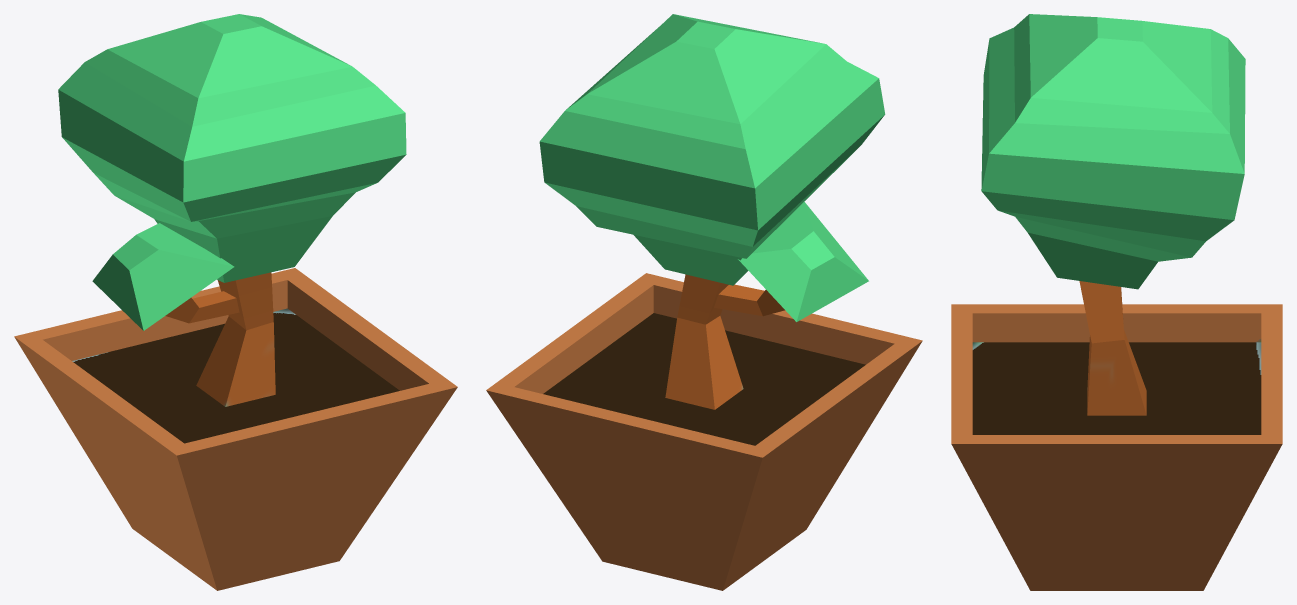
Rendered from pot1.glb.
3 renders of one model, left to right at view 1: azimuth 30°, elevation 25°; view 2: azimuth 150°, elevation 25°; view 3: azimuth 270°, elevation 25°, orthographic. The views are drawn at different scales.
Visible parts, largest first — view 1: Cube; view 2: Cube; view 3: Cube.
Boxes of the visible parts, x1,y1,x2,y2 form: Cube: [14, 14, 457, 590]; Cube: [486, 14, 922, 590]; Cube: [951, 14, 1282, 590].
Size of the model in its own units: 0.8152 by 1.45 by 0.8174.
Materials: 1 (1 with a texture image).
